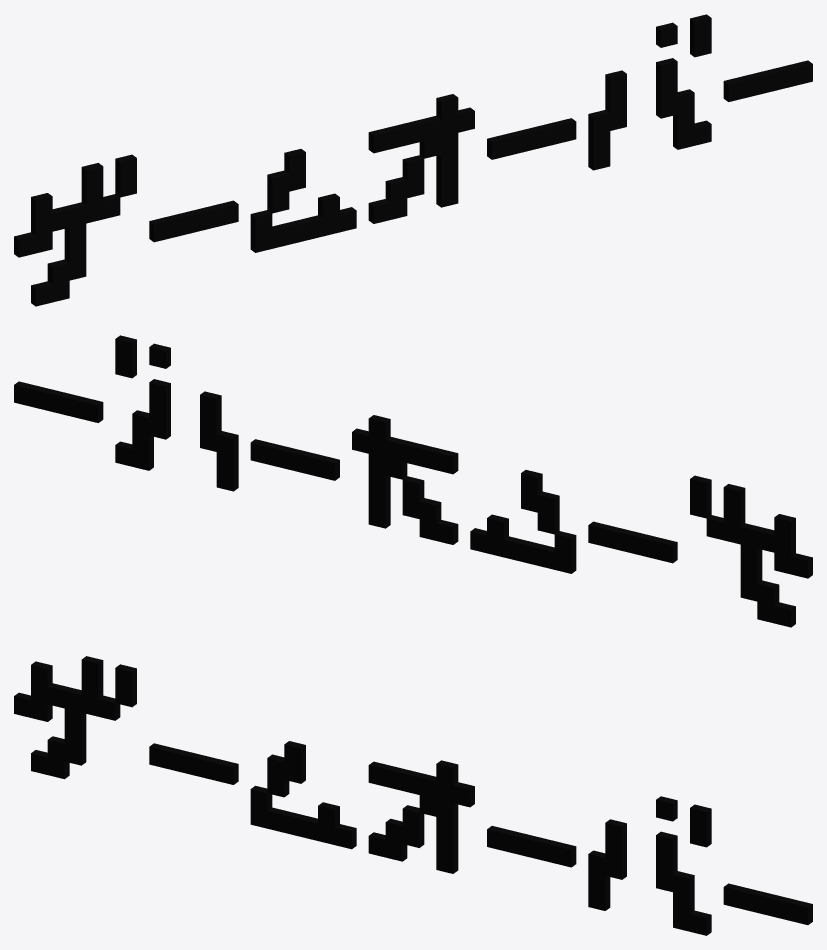
Rendered from GameOver.obj.
The picture shows the model from 3 angles, top to bottom: view 1: azimuth 30°, elevation 25°; view 2: azimuth 150°, elevation 25°; view 3: azimuth 330°, elevation 25°; orthographic projection.
Size of the model in its own units: 9.4 by 1.4 by 0.1.
